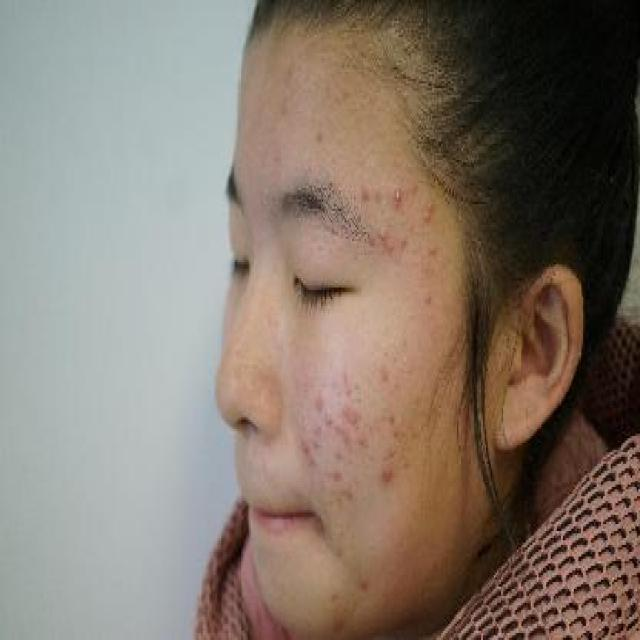papules: (357, 178, 372, 208), (382, 462, 396, 492), (428, 239, 442, 262), (356, 432, 370, 454), (395, 232, 408, 255), (312, 392, 326, 413), (344, 410, 358, 429), (321, 410, 334, 429), (377, 225, 389, 241), (338, 404, 348, 419), (388, 241, 395, 262)
pustules: (386, 183, 408, 211), (420, 285, 435, 313), (423, 197, 435, 227)
